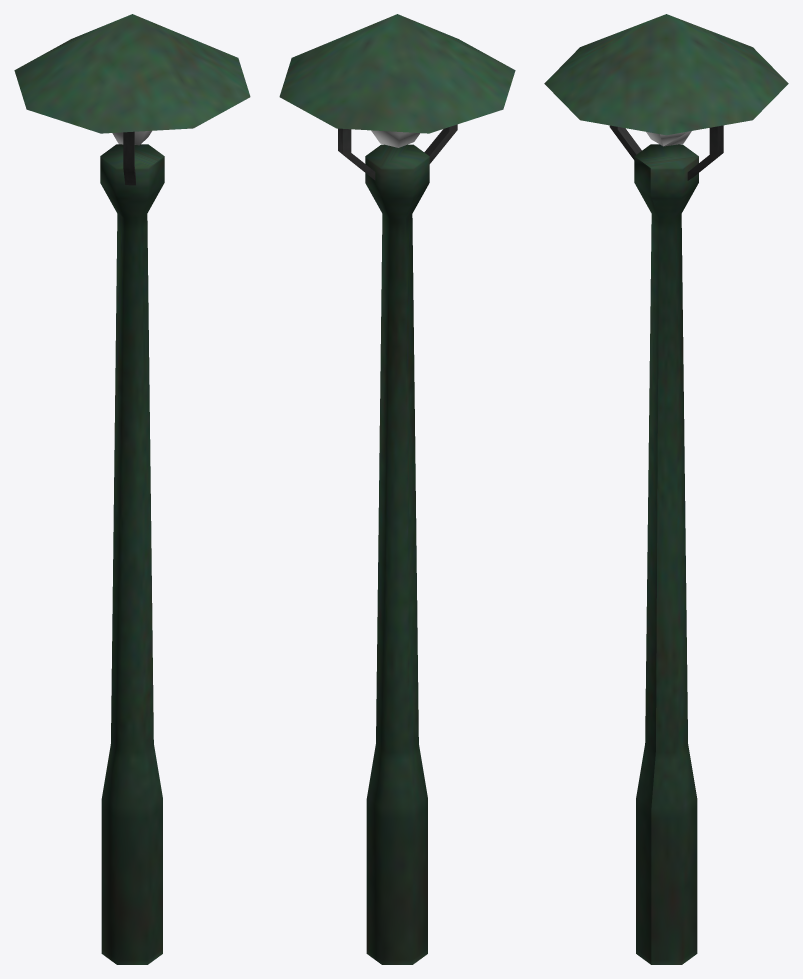
Rendered from lampara.obj.
The picture shows the model from 3 angles, left to right: view 1: azimuth 30°, elevation 25°; view 2: azimuth 150°, elevation 25°; view 3: azimuth 270°, elevation 25°; orthographic projection.
Visible parts, largest first — view 1: Object_Stlamp1_jpg; view 2: Object_Stlamp1_jpg; view 3: Object_Stlamp1_jpg.
Part boxes in pixels (x1,y1,x2,y2): Object_Stlamp1_jpg: (14, 14, 250, 964); Object_Stlamp1_jpg: (279, 14, 515, 964); Object_Stlamp1_jpg: (544, 14, 788, 964).
Bounding box in the file's own units: 0.5895 × 2.5 × 0.5895.
2 materials, 2 textured.
